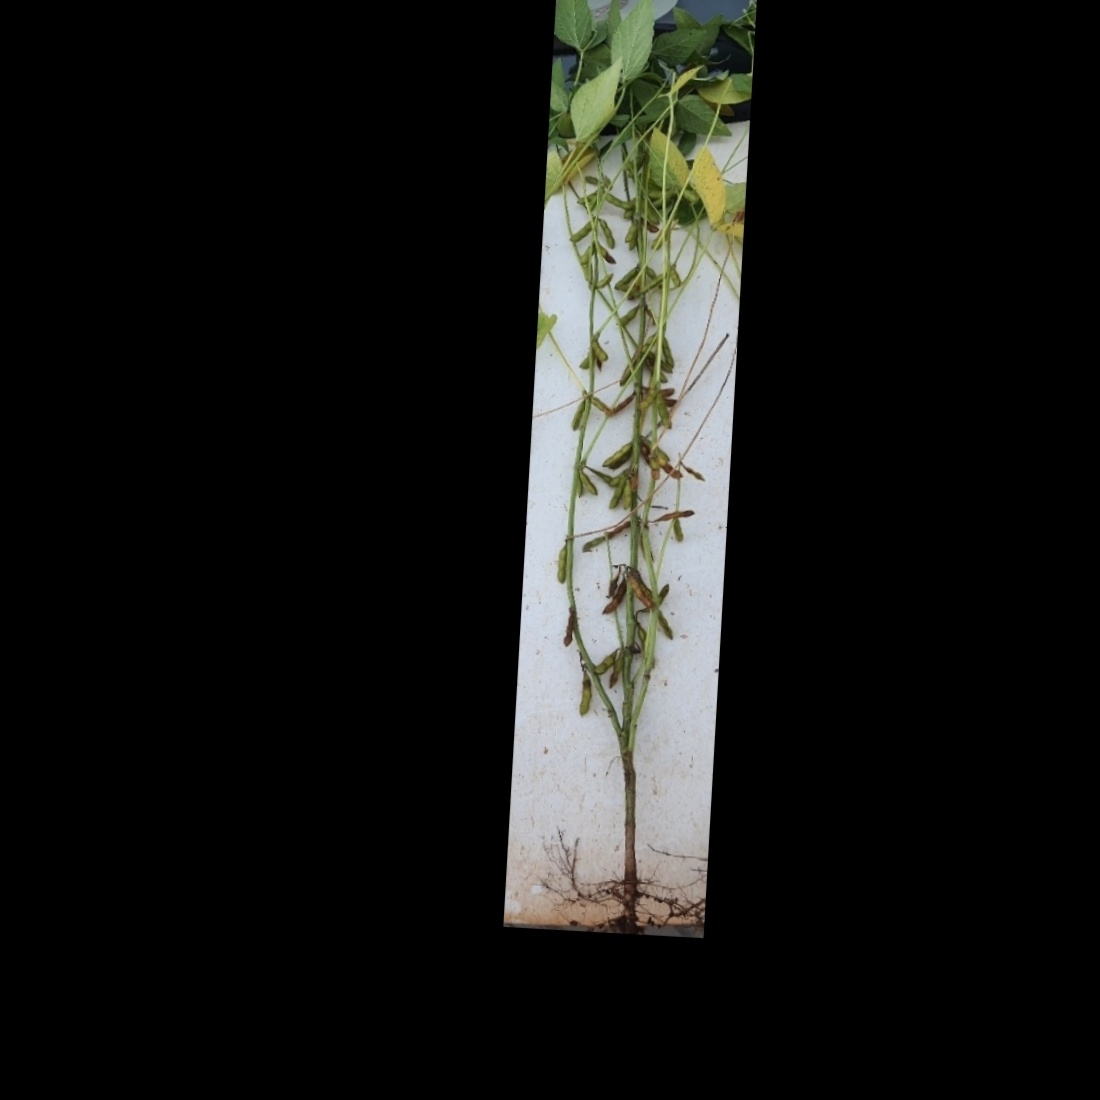pod: (597, 578, 628, 622), (600, 436, 636, 471), (574, 671, 595, 719), (612, 261, 641, 297), (607, 470, 631, 514), (633, 386, 664, 417), (595, 218, 621, 253), (549, 546, 571, 584), (592, 647, 618, 677), (569, 397, 590, 434), (567, 218, 593, 247), (577, 467, 600, 500), (601, 193, 638, 213), (592, 338, 612, 361)
soy: (507, 0, 744, 923)
